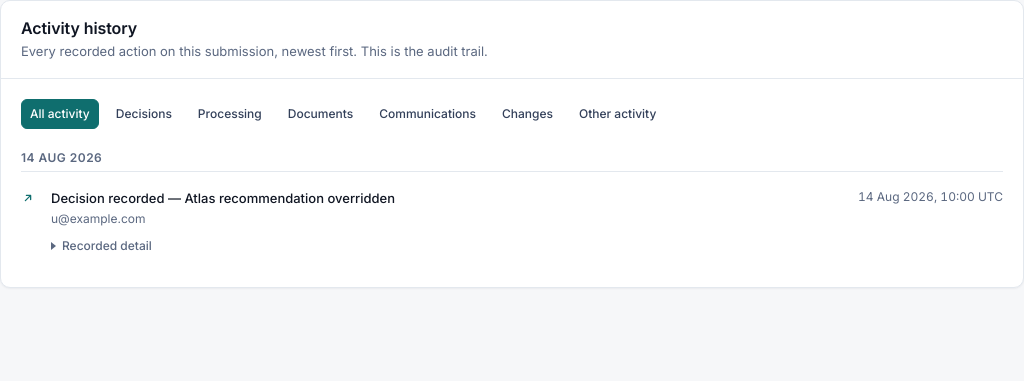
Audit timeline › renders a metadata disclosure with humanised entries
What coordinates should you click on to do the following:
click the heading "Recorded detail"
I would click on:
 (101, 246)
Its box is [51,233,152,260].
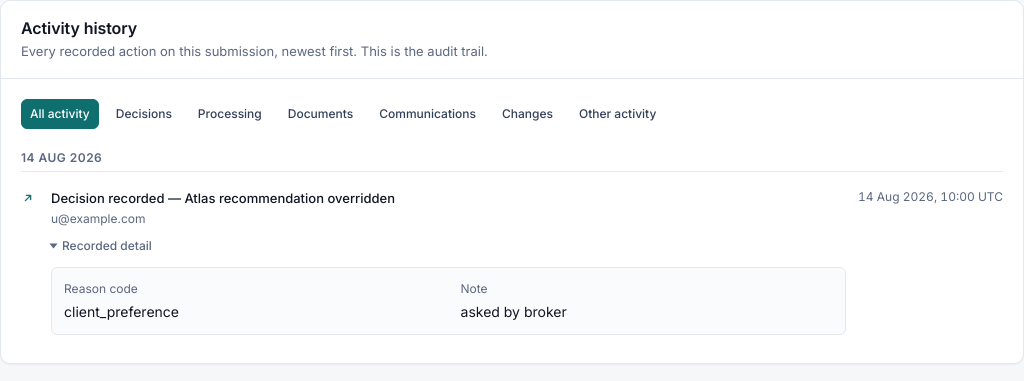
expect the text "Reason code" is shown: met, box [64,282,138,296]
expect the text "client_preference" is shown: met, box [64,303,179,320]
expect the text "Note" is shown: met, box [460,282,488,296]
